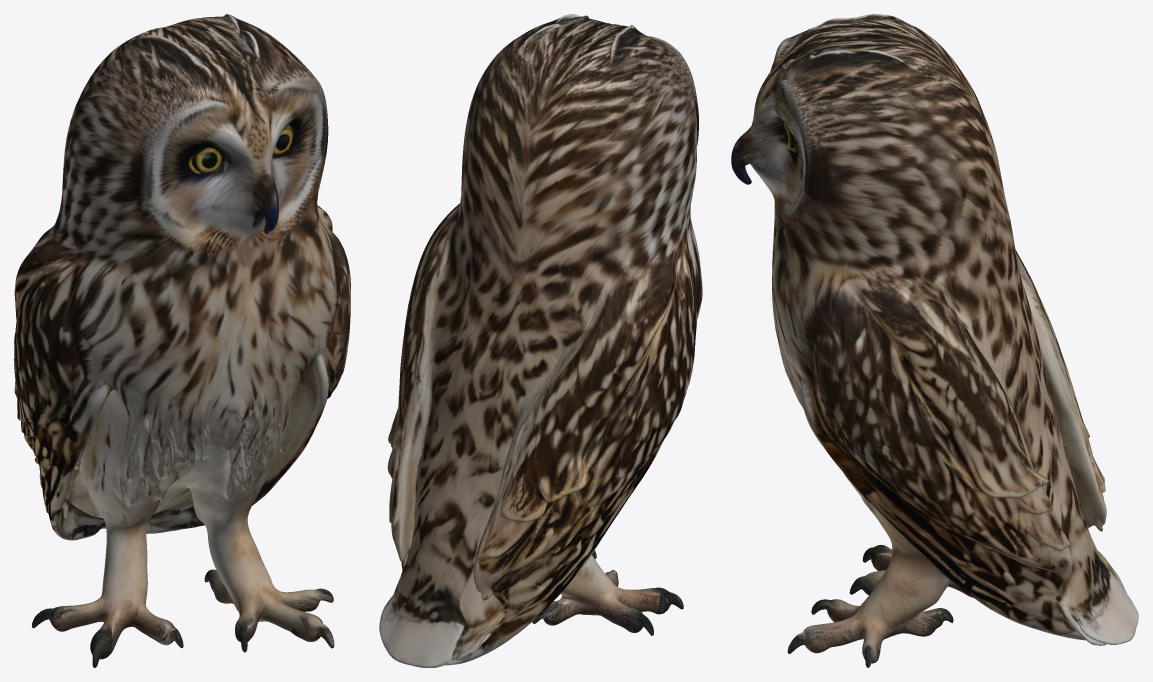
File: 短耳鴞.glb
3 renders of one model, left to right at view 1: azimuth 30°, elevation 25°; view 2: azimuth 150°, elevation 25°; view 3: azimuth 270°, elevation 25°, orthographic. The views are drawn at different scales.
Parts seen in each view (by area): view 1: tripo_node_8f9cee23-c388-4c0d-b08e-b9ec93e6c870; view 2: tripo_node_8f9cee23-c388-4c0d-b08e-b9ec93e6c870; view 3: tripo_node_8f9cee23-c388-4c0d-b08e-b9ec93e6c870.
Part boxes in pixels (bbox=[...]): tripo_node_8f9cee23-c388-4c0d-b08e-b9ec93e6c870: bbox=[14, 14, 350, 667]; tripo_node_8f9cee23-c388-4c0d-b08e-b9ec93e6c870: bbox=[379, 14, 702, 667]; tripo_node_8f9cee23-c388-4c0d-b08e-b9ec93e6c870: bbox=[731, 14, 1138, 667].
Bounding box in the file's own units: 0.4996 × 0.9999 × 0.6342.
1 material, 1 textured.
